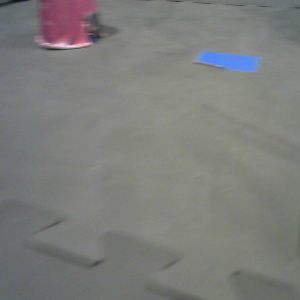middle: (34, 1, 108, 49)
